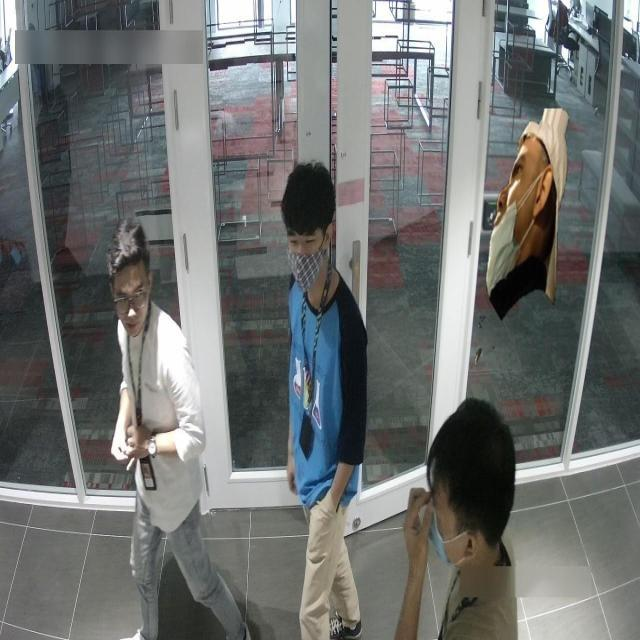hairnet: (485, 177, 552, 289)
mask: (286, 243, 329, 291)
no_hairnet: (113, 297, 150, 340)
